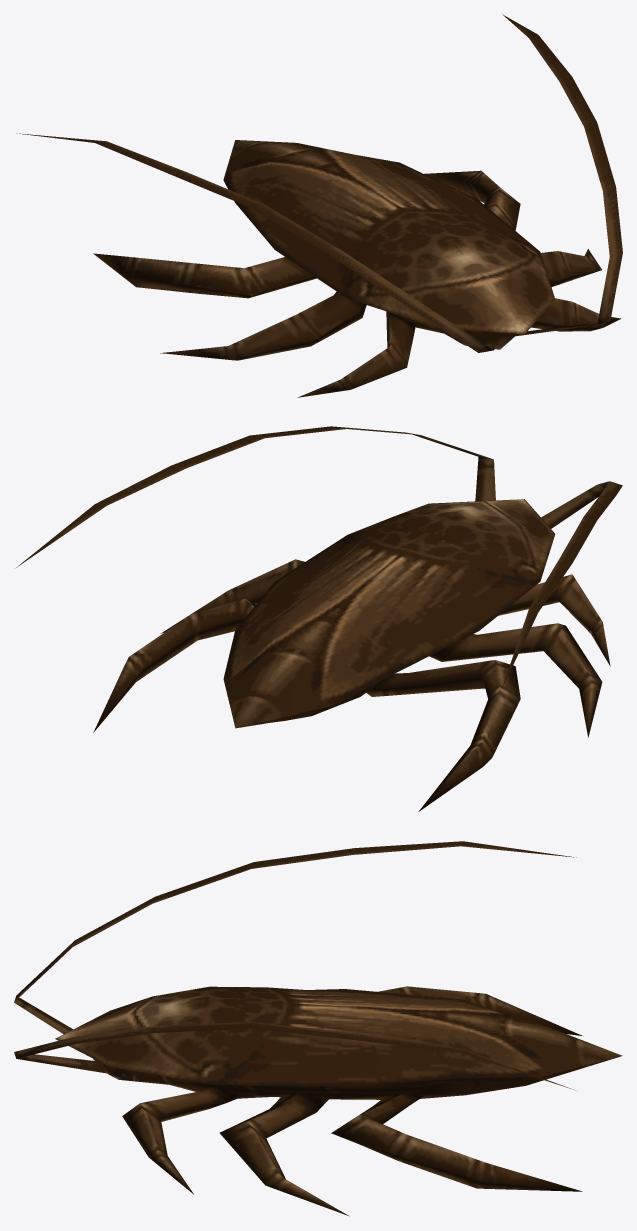
The model's file is roach_minion_e2c8575d.glb.
3 views of the same model, one above another, from view 1: azimuth 30°, elevation 25°; view 2: azimuth 150°, elevation 25°; view 3: azimuth 270°, elevation 25° (orthographic).
Bounding box in the file's own units: 0.8957 × 0.3051 × 0.9866.
Materials: 1 (1 with a texture image).
